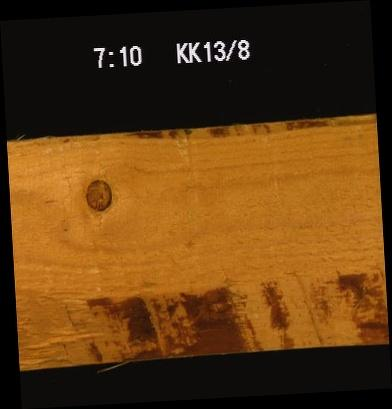wave: (16, 263, 386, 354), (132, 119, 377, 142)
